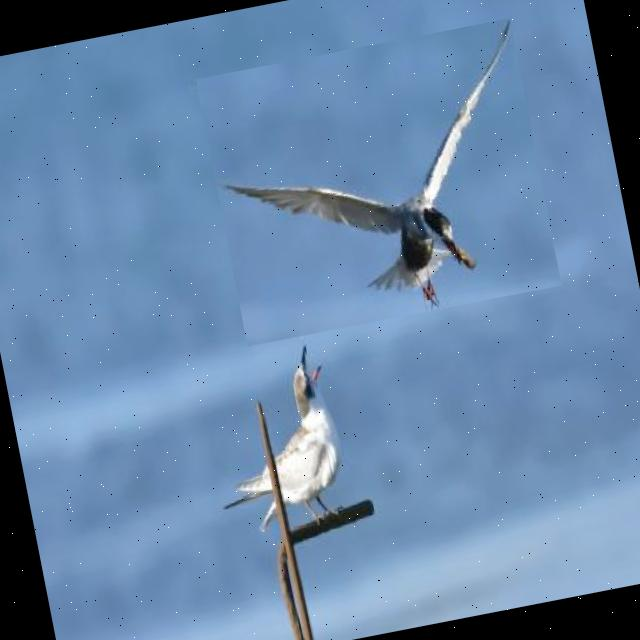bird: (197, 18, 562, 346), (196, 340, 358, 544)
